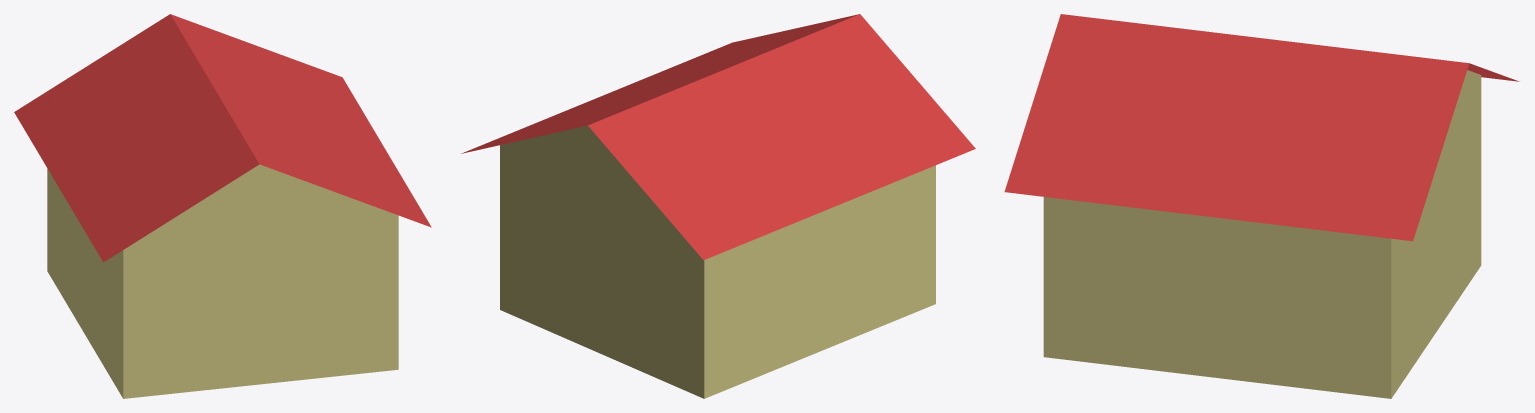
3 views of the same model, side by side, from view 1: azimuth 30°, elevation 25°; view 2: azimuth 150°, elevation 25°; view 3: azimuth 270°, elevation 25° (orthographic). The views are drawn at different scales.
Bounding box in the file's own units: 15.61 × 16.32 × 9.37.
